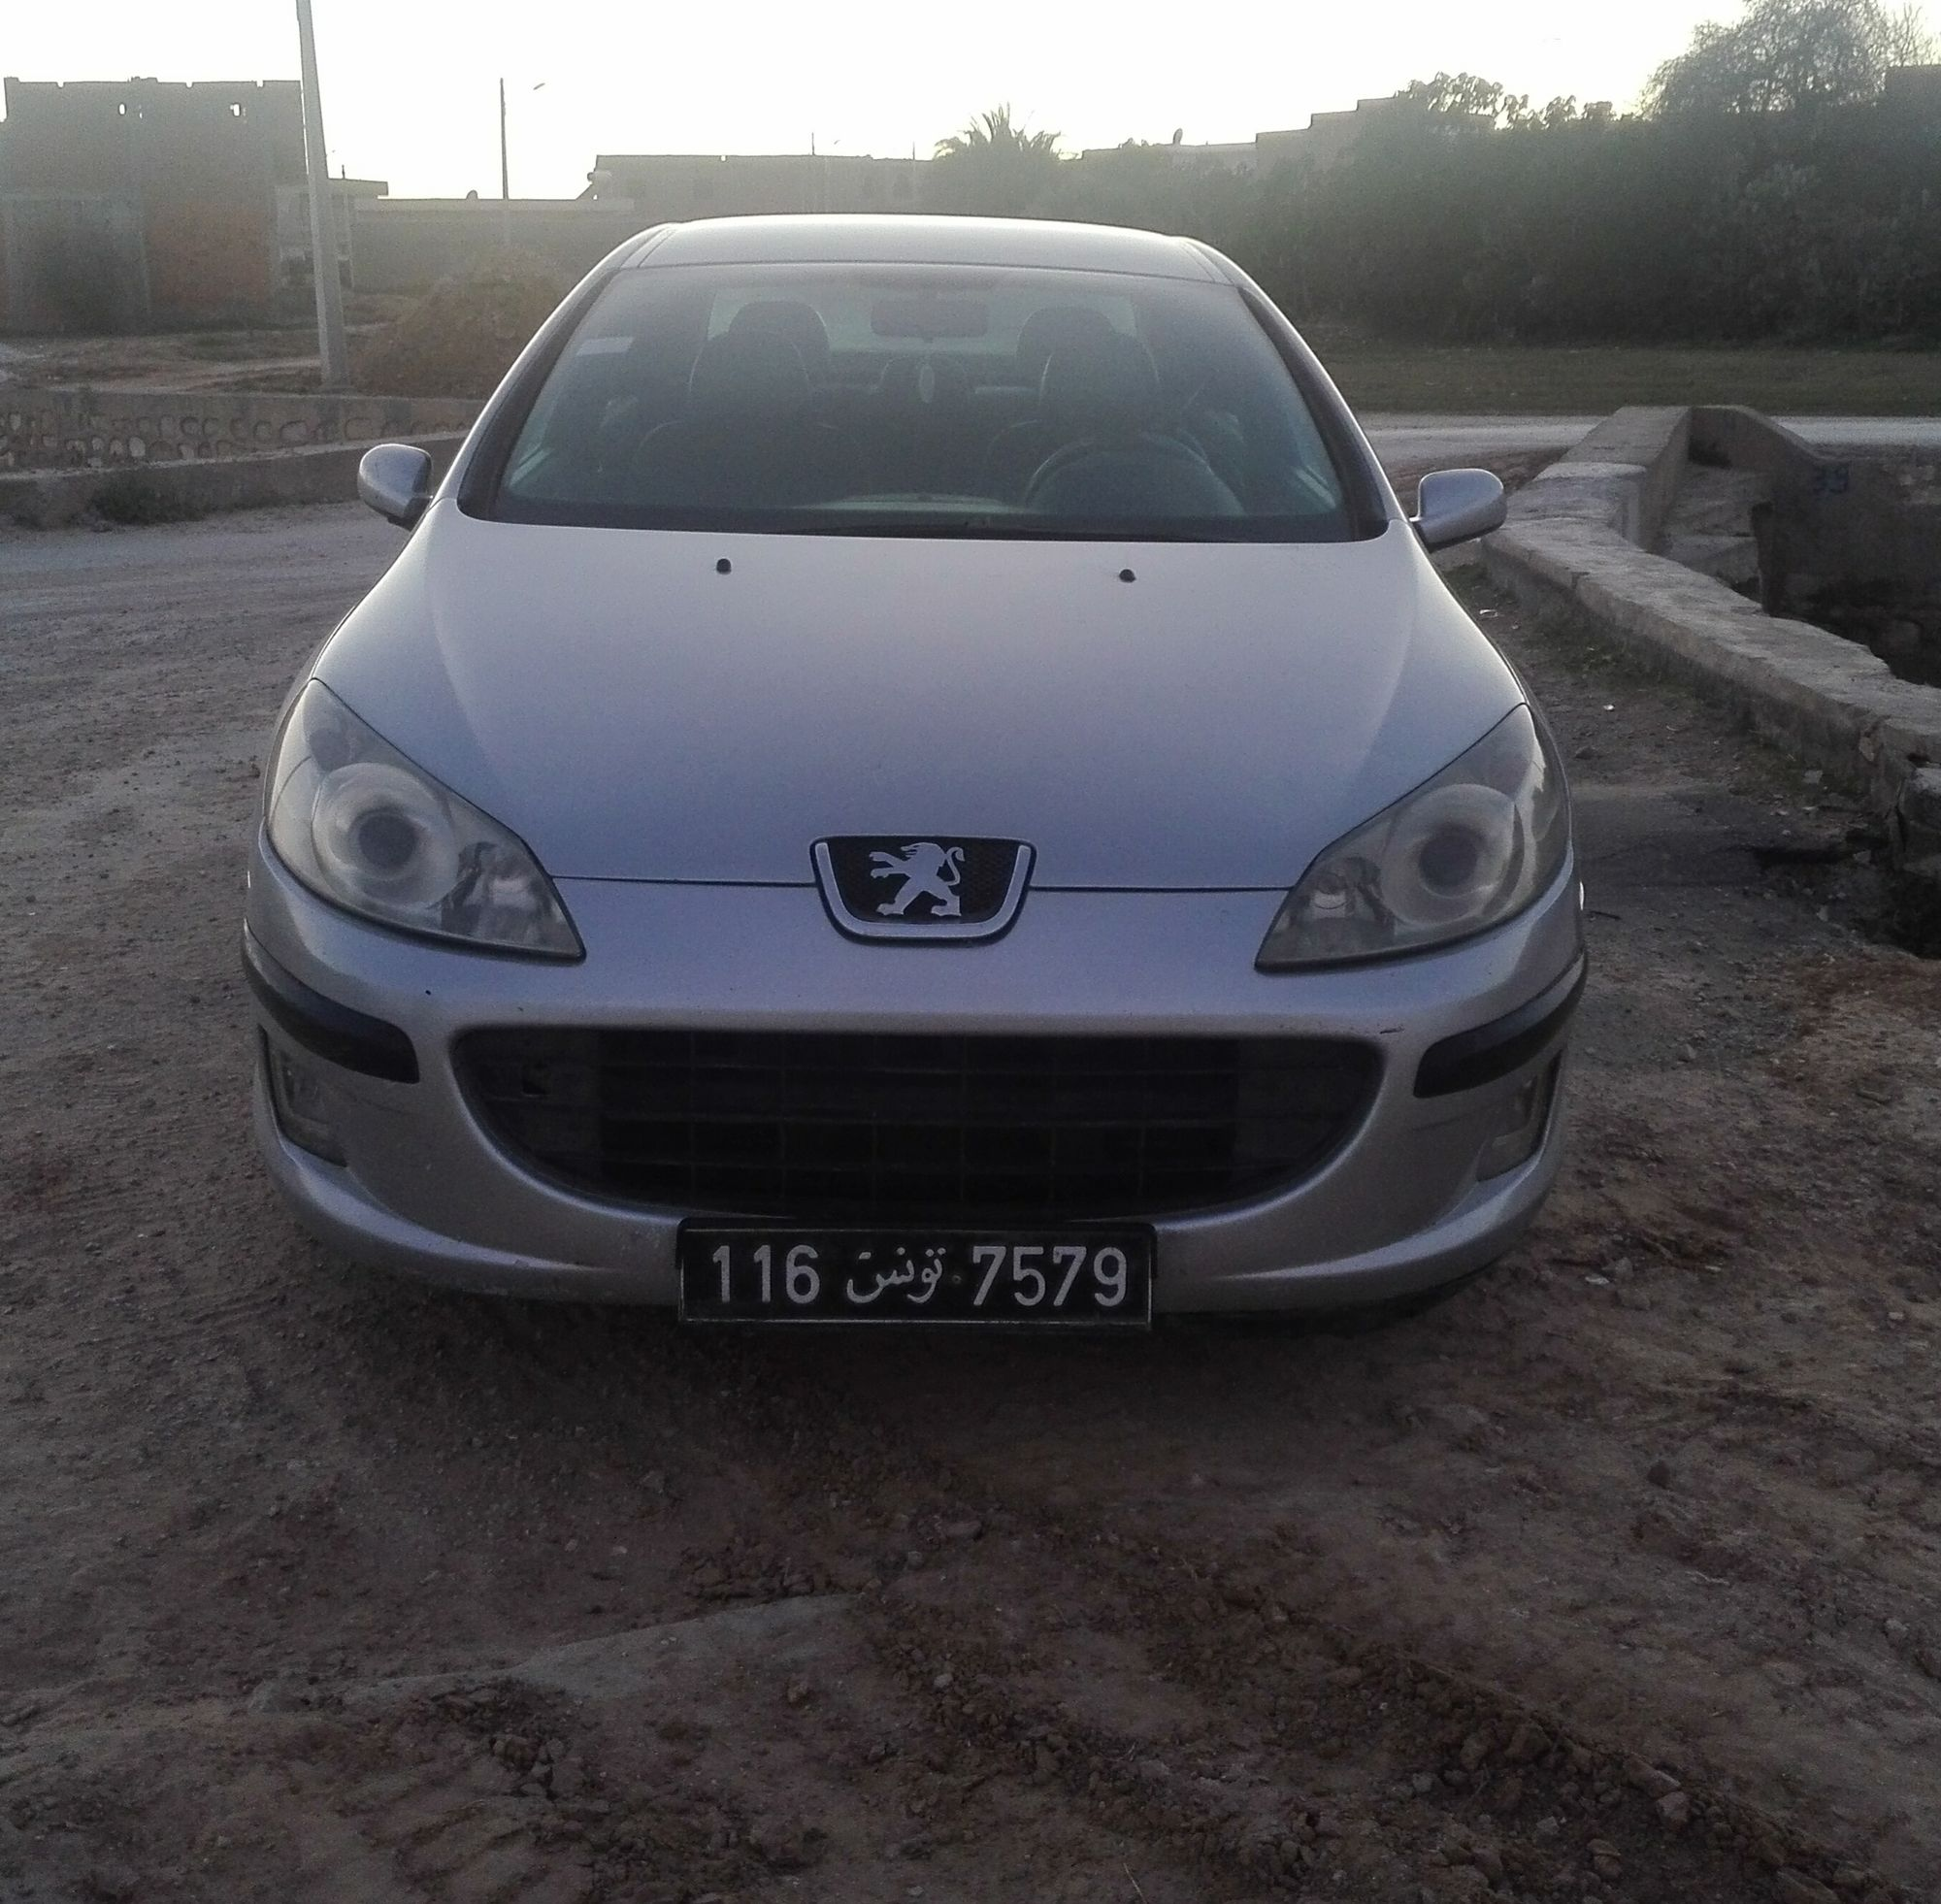LP: (675, 1225, 1157, 1324)
